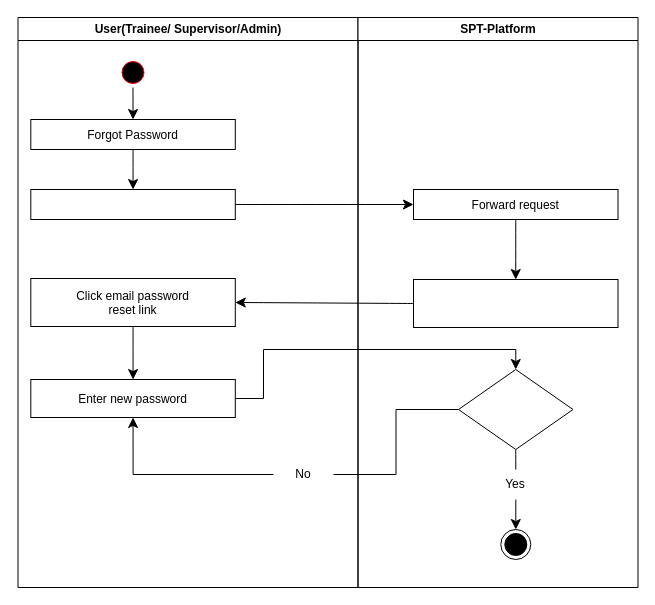
This 655x605 diagram has some shape labels left out. Here are the shapes that lost their labels. From the top down, the centre of each, then its label:
pixel 132 204: Enter email to send request
pixel 515 303: Forward email containing password reset link
pixel 515 409: Valid Password Changes?
